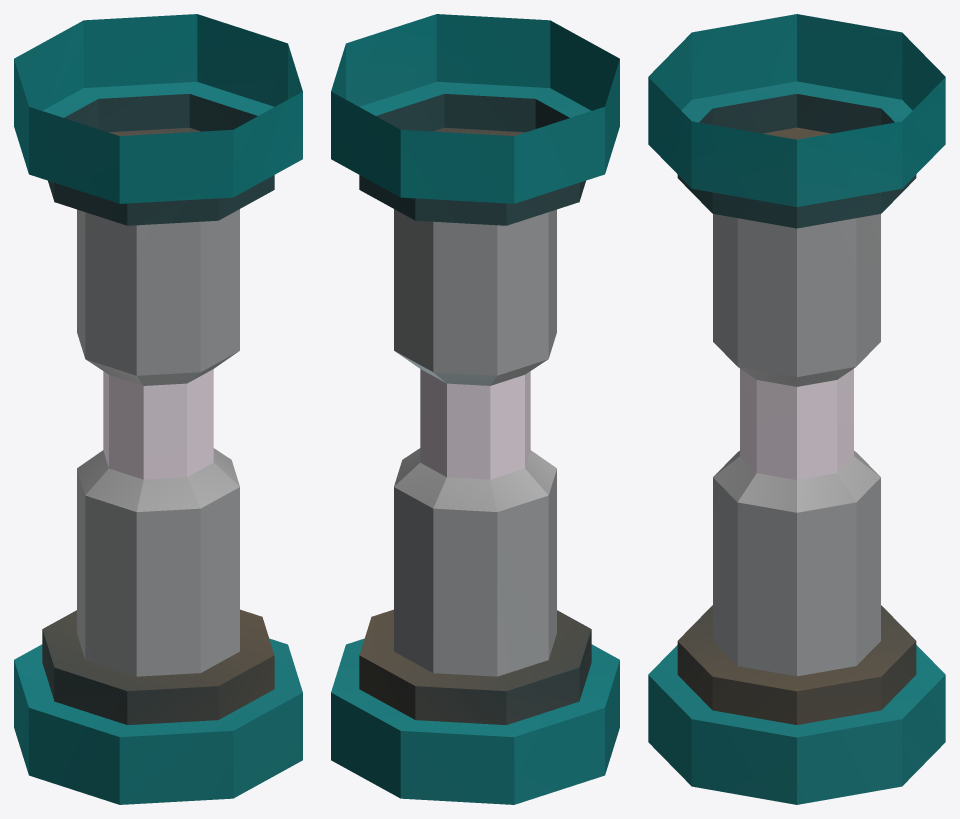
The model's file is Pipe_short.fbx.
3 views of the same model, side by side, from view 1: azimuth 30°, elevation 25°; view 2: azimuth 150°, elevation 25°; view 3: azimuth 270°, elevation 25° (orthographic).
Visible parts, largest first — view 1: Pipe_short; view 2: Pipe_short; view 3: Pipe_short.
Part boxes in pixels (<box>): Pipe_short: <box>14,14,302,804</box>; Pipe_short: <box>331,14,619,804</box>; Pipe_short: <box>648,14,945,804</box>.
Bounding box in the file's own units: 32.45 × 80.05 × 32.45.
